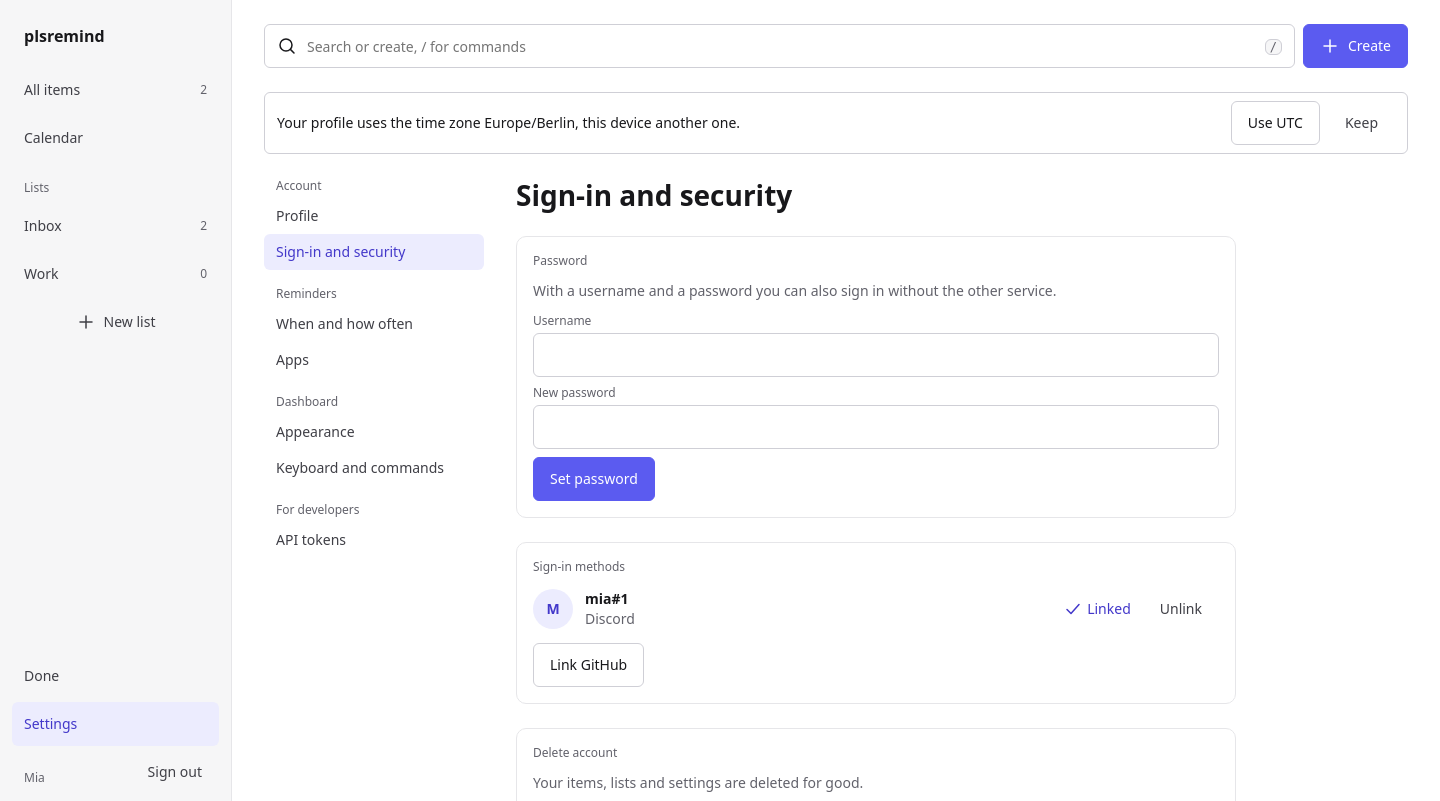
Test: an account without a password gets one with a username
The width and height of the screenshot is (1440, 801).
Expected: the navigation bar named "Settings" is shown, top-left (264, 178), bottom-right (484, 558)
Type "mia" into the field labelled "Username" at (876, 355), box top-left (533, 333), bottom-right (1219, 377)
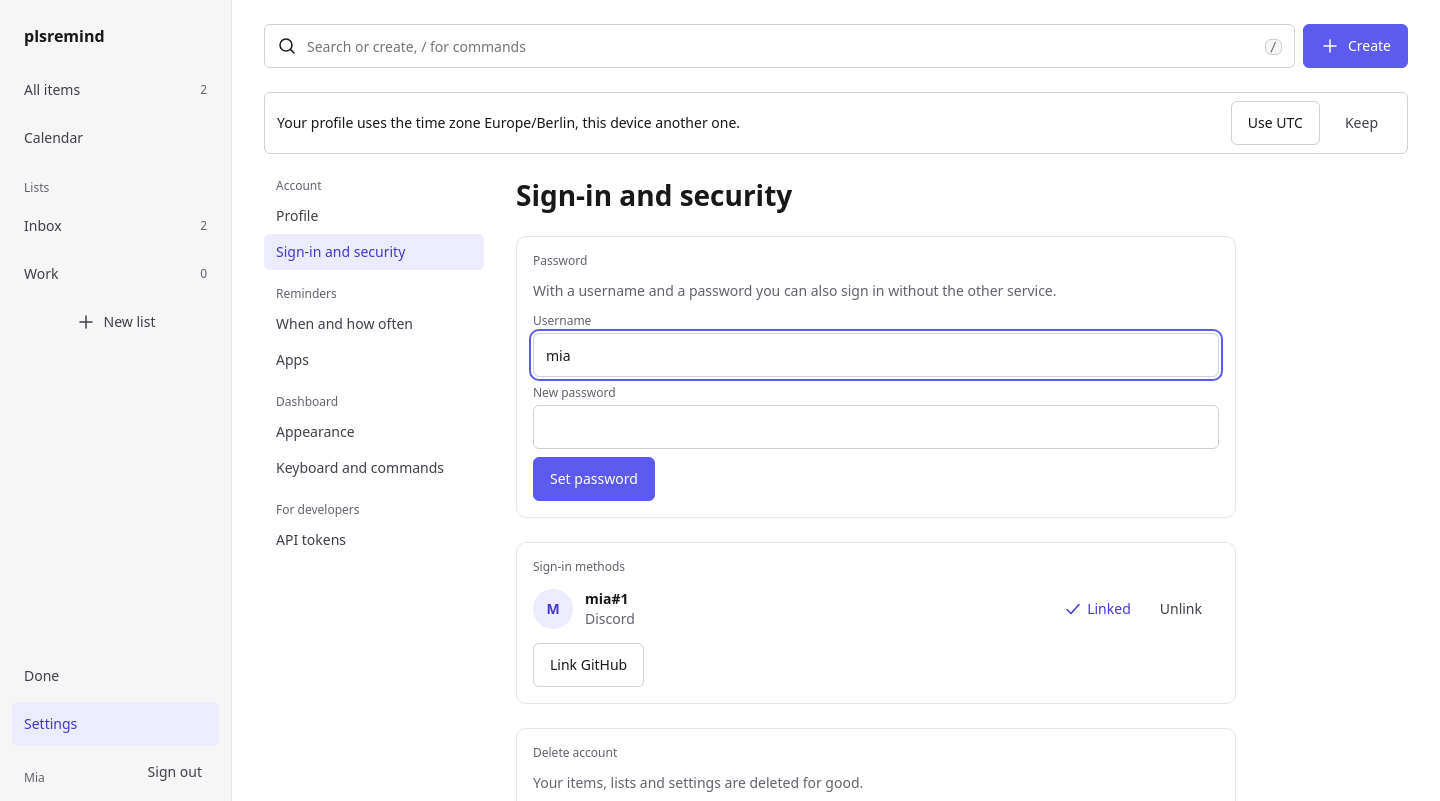
Type "a brand new one" into the password field labelled "New password" at (876, 427), box top-left (533, 405), bottom-right (1219, 449)
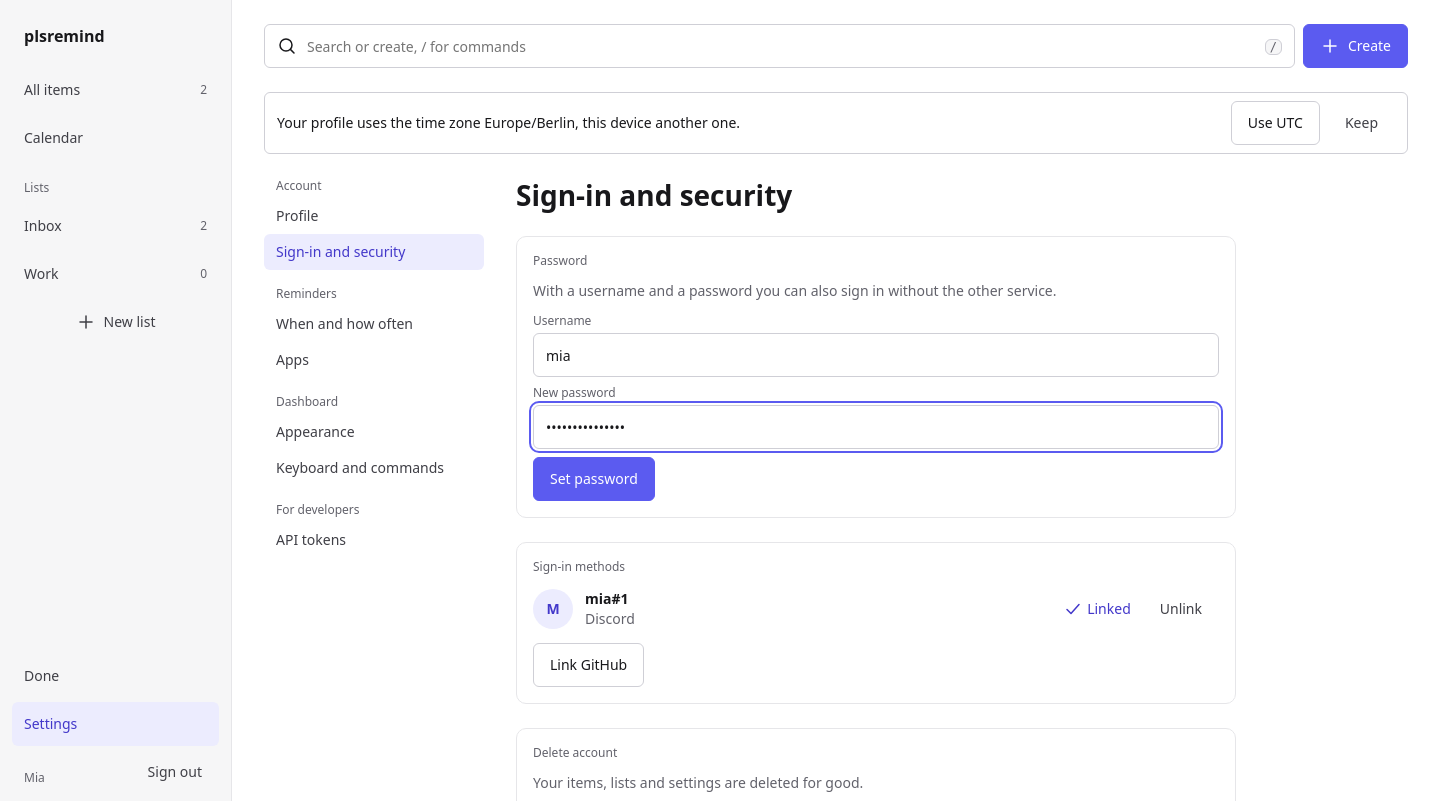
Click the button "Set password" at (594, 479), box top-left (533, 457), bottom-right (655, 501)
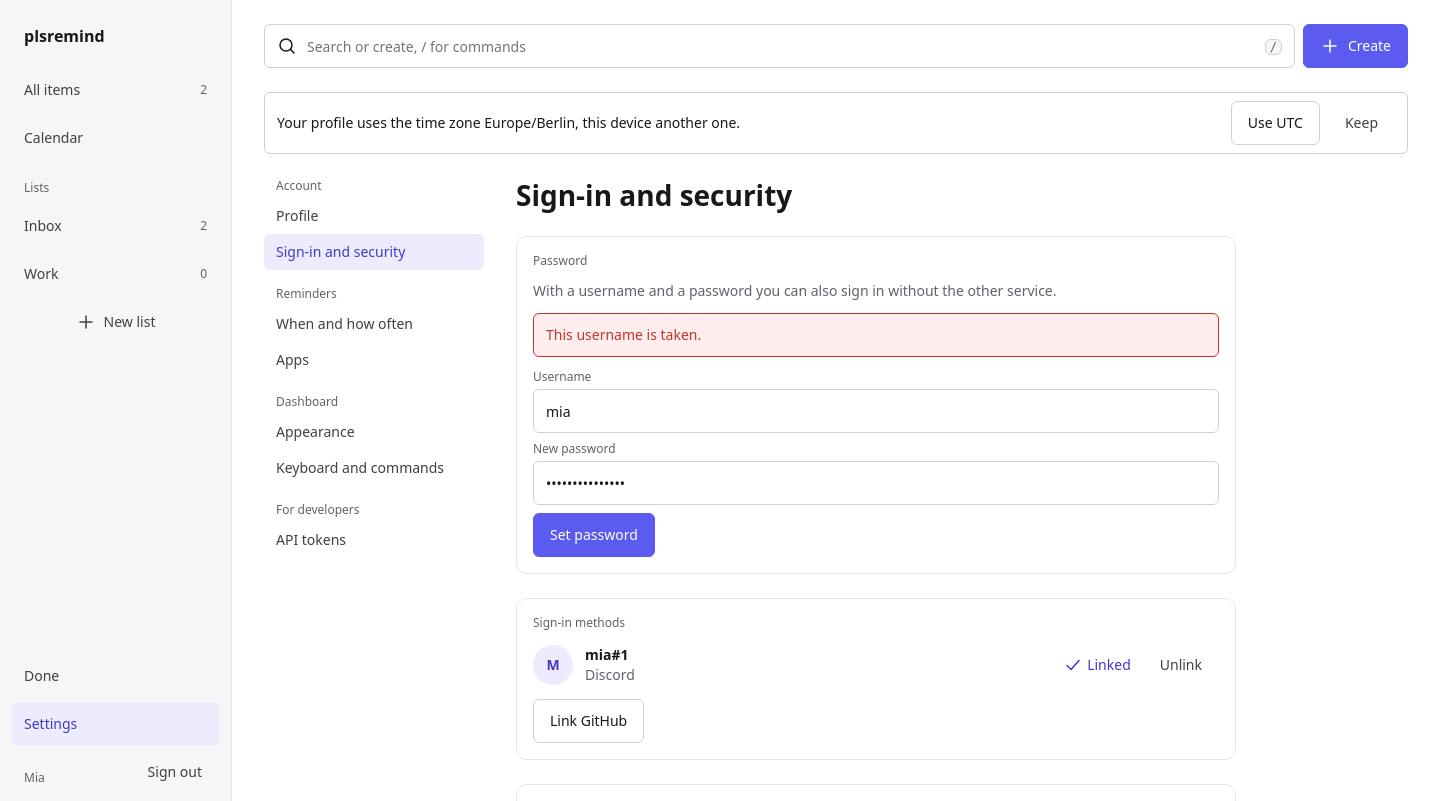
Now the message "This username is taken." is shown, box top-left (533, 313), bottom-right (1219, 357)
